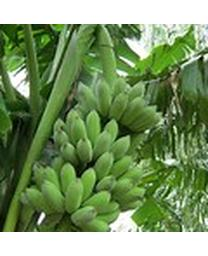banana: (29, 77, 161, 234)
